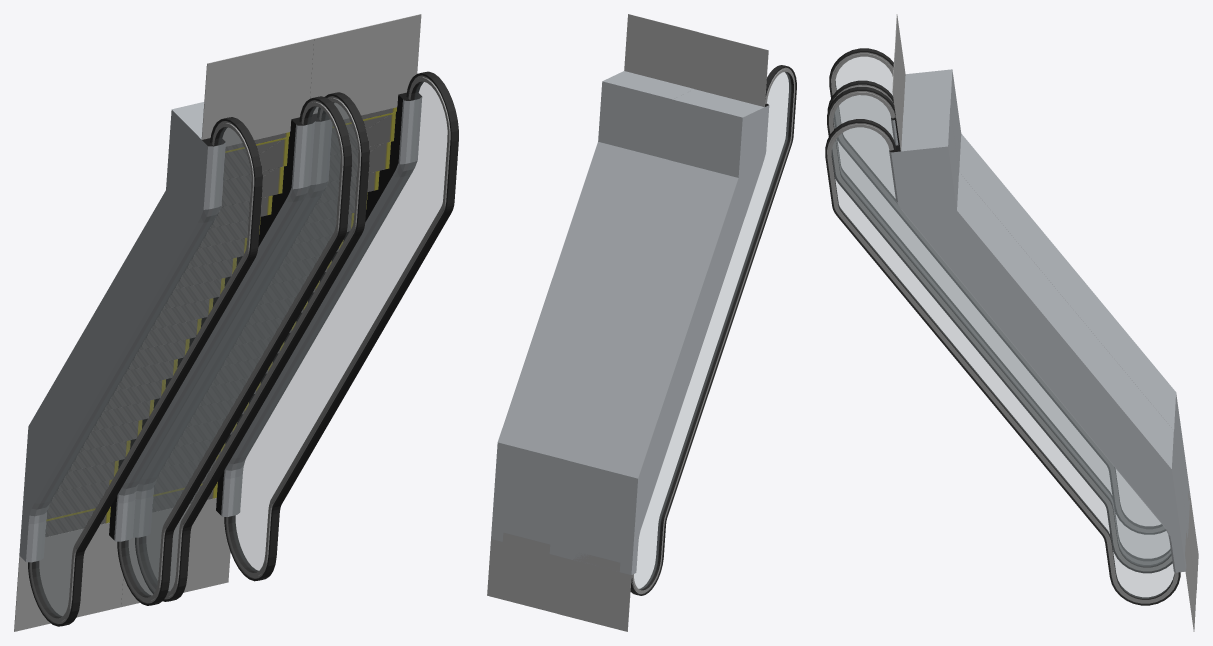
The model's file is Thang cuốn đôi (chìm).glb.
3 views of the same model, side by side, from view 1: azimuth 30°, elevation 25°; view 2: azimuth 150°, elevation 25°; view 3: azimuth 270°, elevation 25° (orthographic). The views are drawn at different scales.
Parts seen in each view (by area): view 1: Object_3.001, Object_3, Object_7.001, Object_6.001, Object_8.001, Object_6, Object_7, Object_8, Object_5.001, Object_5, Object_4.001, Object_4 (+2 smaller); view 2: Object_7.001, Object_7, Object_3.001, Object_8.001, Object_8, Object_5.001, Object_4.001; view 3: Object_7, Object_3, Object_7.001, Object_4, Object_5, Object_4.001, Object_5.001, Object_3.001, Object_8, Object_8.001.
Part boxes in pixels (x1,y1,x2,y2): Object_3.001: (36,106,340,617); Object_3: (143,82,447,591); Object_7.001: (19,102,314,562); Object_6.001: (45,132,289,536); Object_8.001: (14,39,313,631); Object_6: (152,107,396,512); Object_7: (133,97,422,537); Object_8: (121,14,421,606); Object_5.001: (28,96,351,626); Object_5: (135,71,458,601); Object_4.001: (30,100,343,623); Object_4: (137,75,450,599); Object_7.001: (561,89,769,574); Object_7: (491,71,693,556); Object_3.001: (634,72,790,589); Object_8.001: (557,32,768,631); Object_8: (487,14,698,613); Object_5.001: (630,65,796,595); Object_4.001: (631,67,795,594); Object_7: (889,108,1187,572); Object_3: (832,95,1173,598); Object_7.001: (903,69,1190,532); Object_4: (827,91,1178,603); Object_5: (825,87,1180,605); Object_4.001: (831,52,1170,564); Object_5.001: (827,48,1170,560); Object_3.001: (834,57,892,136); Object_8: (892,52,1196,631); Object_8.001: (894,14,1198,592).
Bounding box in the file's own units: 267 × 836 × 526.
7 materials, 1 textured.
